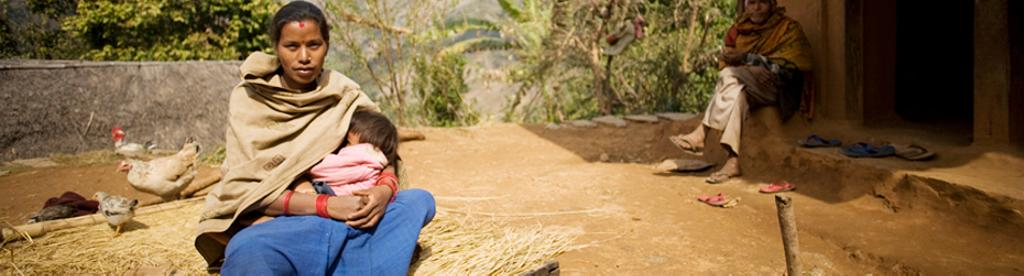face: (277, 20, 325, 83), (327, 123, 363, 169), (746, 0, 772, 21)
